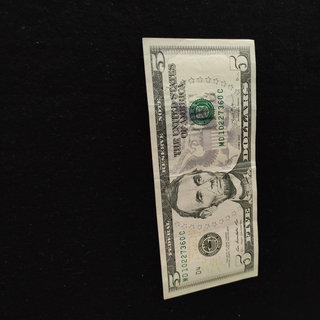5USDFront: (141, 36, 261, 299)
